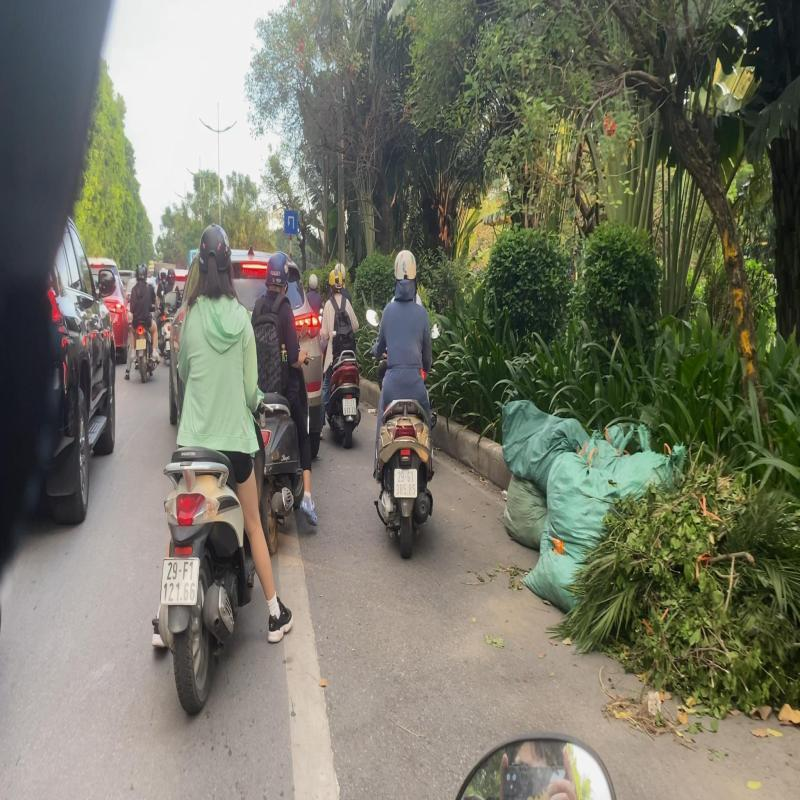helmet: (198, 224, 232, 275), (266, 252, 290, 290), (395, 250, 417, 280), (328, 266, 345, 290), (136, 264, 146, 280), (167, 268, 175, 278)
licenseplate: (160, 555, 200, 607), (395, 468, 418, 498), (342, 395, 358, 416), (136, 339, 146, 350)
motorcyclist: (152, 223, 294, 719), (372, 247, 438, 561), (252, 250, 318, 556), (320, 268, 364, 450), (126, 262, 162, 386), (164, 267, 182, 366)
